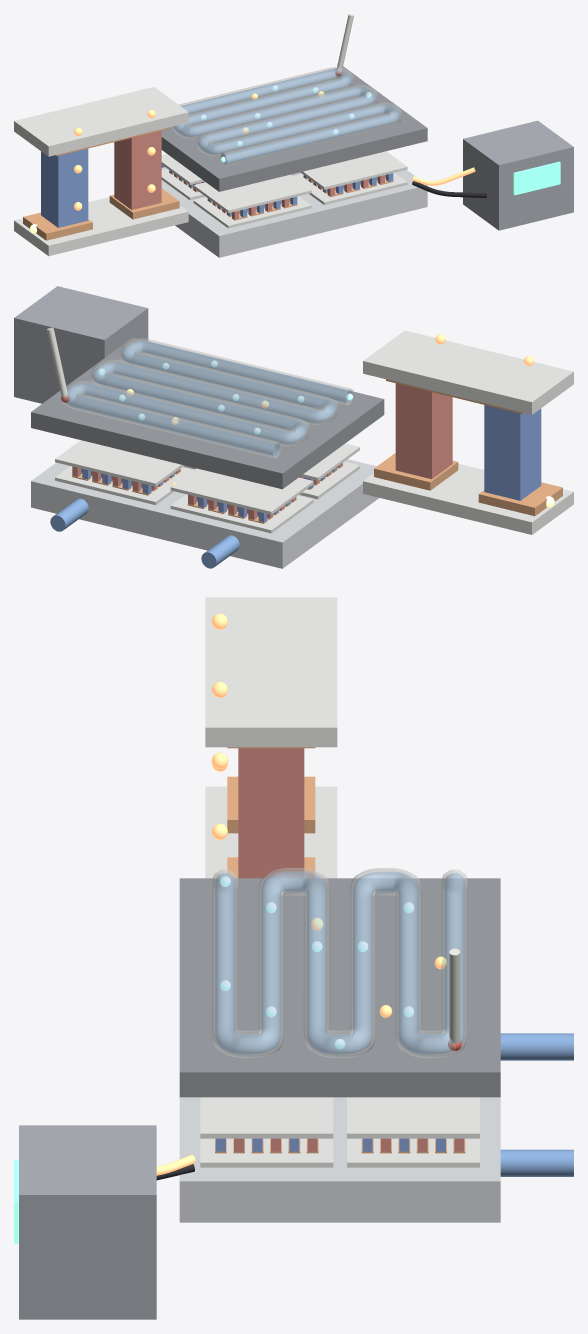
File: peltier.glb
The picture shows the model from 3 angles, top to bottom: view 1: azimuth 30°, elevation 25°; view 2: azimuth 150°, elevation 25°; view 3: azimuth 270°, elevation 25°; orthographic projection. The views are drawn at different scales.
Visible parts, largest first — view 1: 药液侧换热板, 药液流道, 流道药液, 直流电源, 冷却水板, 陶瓷基板, 放大_上陶瓷, 放大_下陶瓷, 放大_N, 放大_P, 电源屏, 放大_下铜片-1 (+7 smaller); view 2: 药液侧换热板, 药液流道, 流道药液, 冷却水板, 陶瓷基板, 直流电源, 放大_上陶瓷, 放大_下陶瓷, 放大_N, 放大_P, 放大_下铜片-1, 放大_下铜片1 (+6 smaller); view 3: 药液侧换热板, 药液流道, 直流电源, 流道药液, 冷却水板, 放大_上陶瓷, 陶瓷基板, 放大_P, 放大_下陶瓷, 冷却水口-1, 冷却水口1, 放大_下铜片-1 (+4 smaller).
Part boxes in pixels (bbox=[...]): 药液侧换热板: bbox=[161, 66, 427, 191]; 药液流道: bbox=[172, 67, 402, 166]; 流道药液: bbox=[174, 69, 400, 164]; 直流电源: bbox=[463, 120, 573, 230]; 冷却水板: bbox=[161, 167, 427, 257]; 陶瓷基板: bbox=[161, 151, 407, 228]; 放大_上陶瓷: bbox=[14, 87, 188, 156]; 放大_下陶瓷: bbox=[14, 197, 188, 256]; 放大_N: bbox=[41, 148, 88, 227]; 放大_P: bbox=[114, 130, 161, 209]; 电源屏: bbox=[513, 161, 560, 195]; 放大_下铜片-1: bbox=[23, 212, 92, 240]; 药液侧换热板: bbox=[31, 337, 384, 489]; 药液流道: bbox=[61, 338, 353, 458]; 流道药液: bbox=[66, 341, 352, 455]; 冷却水板: bbox=[31, 459, 379, 568]; 陶瓷基板: bbox=[55, 440, 359, 533]; 直流电源: bbox=[14, 286, 148, 403]; 放大_上陶瓷: bbox=[363, 330, 573, 414]; 放大_下陶瓷: bbox=[363, 463, 573, 534]; 放大_N: bbox=[484, 405, 541, 500]; 放大_P: bbox=[395, 383, 452, 479]; 放大_下铜片-1: bbox=[478, 482, 562, 516]; 放大_下铜片1: bbox=[374, 453, 458, 490]; 药液侧换热板: bbox=[179, 878, 500, 1097]; 药液流道: bbox=[211, 868, 468, 1057]; 直流电源: bbox=[19, 1125, 156, 1319]; 流道药液: bbox=[215, 872, 464, 1053]; 冷却水板: bbox=[179, 1097, 500, 1222]; 放大_上陶瓷: bbox=[205, 597, 337, 747]; 陶瓷基板: bbox=[200, 1097, 479, 1167]; 放大_P: bbox=[238, 748, 304, 878]; 放大_下陶瓷: bbox=[205, 786, 337, 878]; 冷却水口-1: bbox=[500, 1033, 573, 1060]; 冷却水口1: bbox=[500, 1149, 573, 1176]; 放大_下铜片-1: bbox=[227, 776, 315, 833].
Bounding box in the file's own units: 2.29 × 0.706 × 1.22.
